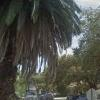Tree: (3, 0, 98, 76)
